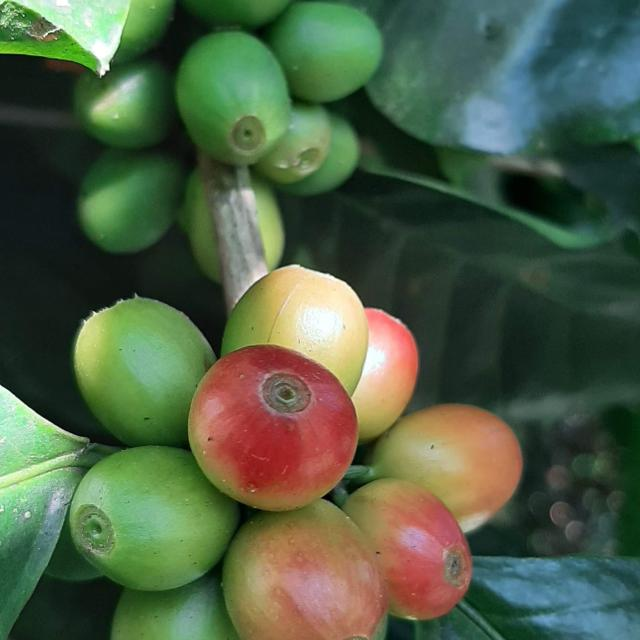green: (222, 265, 418, 441), (68, 446, 239, 592), (73, 59, 185, 253), (73, 296, 215, 447), (175, 30, 291, 165), (266, 1, 383, 102), (110, 572, 239, 640), (280, 113, 360, 196), (255, 102, 331, 184), (181, 169, 220, 283), (252, 175, 285, 270), (180, 0, 290, 28)
yellow: (188, 345, 358, 512), (222, 500, 388, 640), (370, 405, 523, 532), (342, 479, 473, 622)
